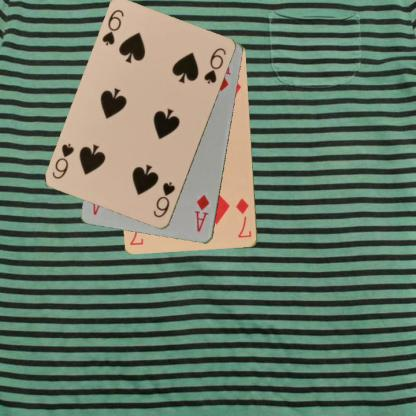6s: (151, 179, 177, 220), (100, 7, 126, 47)
7d: (233, 196, 253, 239)
Ad: (192, 192, 211, 233)
